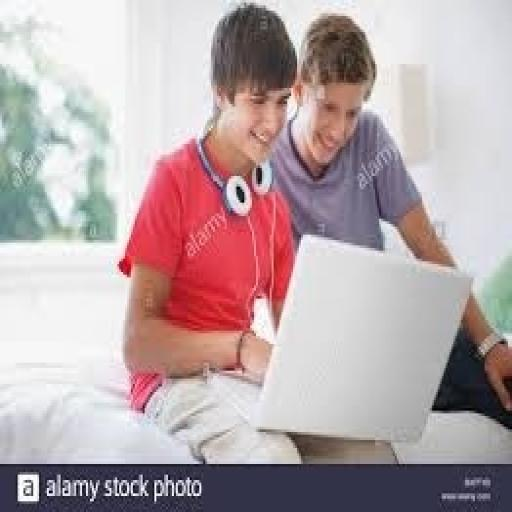using_laptop: (248, 229, 473, 443)
